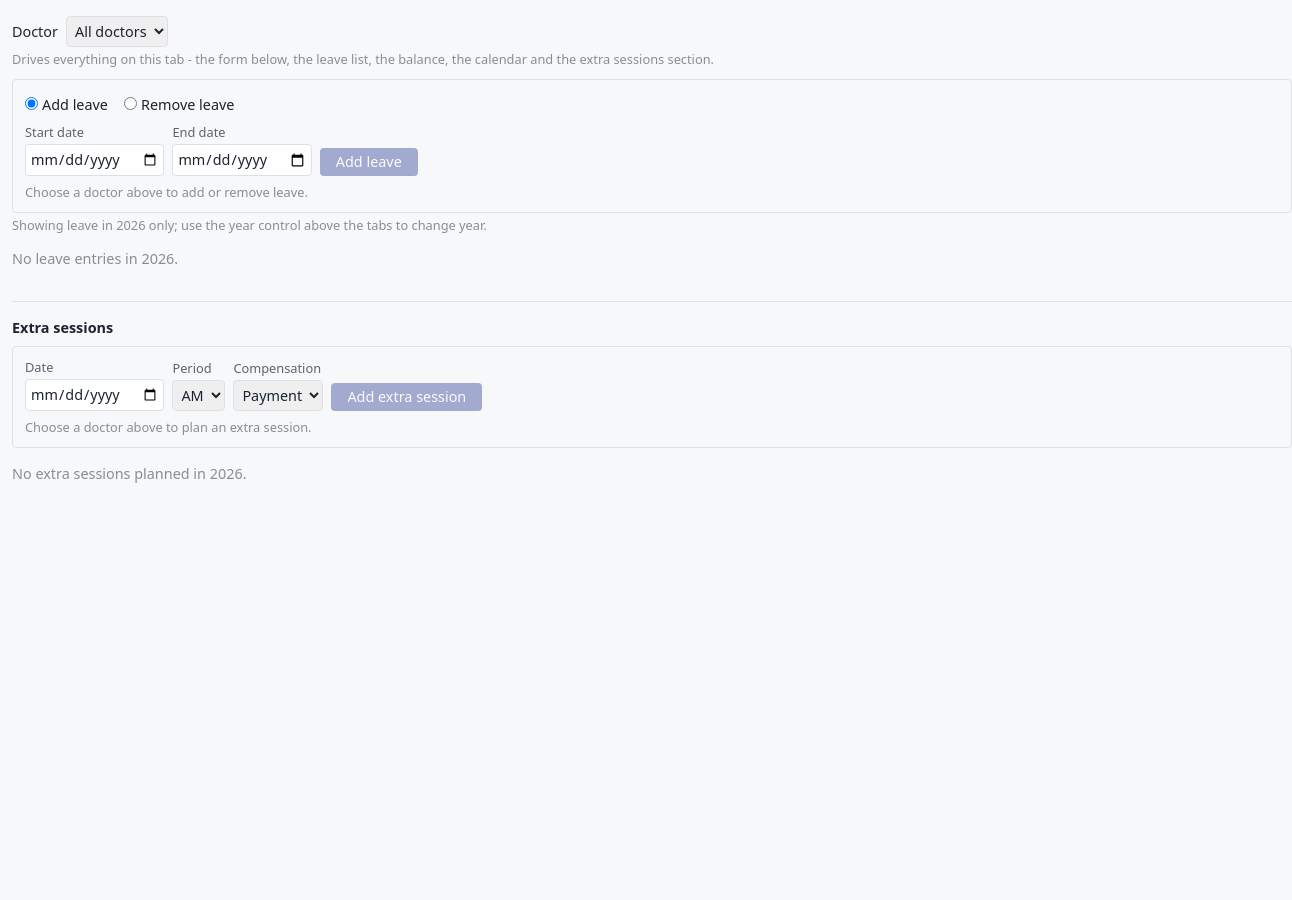
Test: LeavePage › add mode › sums created, duplicate and weekend counts across segments in the summary
The image size is (1292, 900).
Select "AB" in the dropdown labelled "Doctor" at (117, 32), box [66, 16, 168, 47]
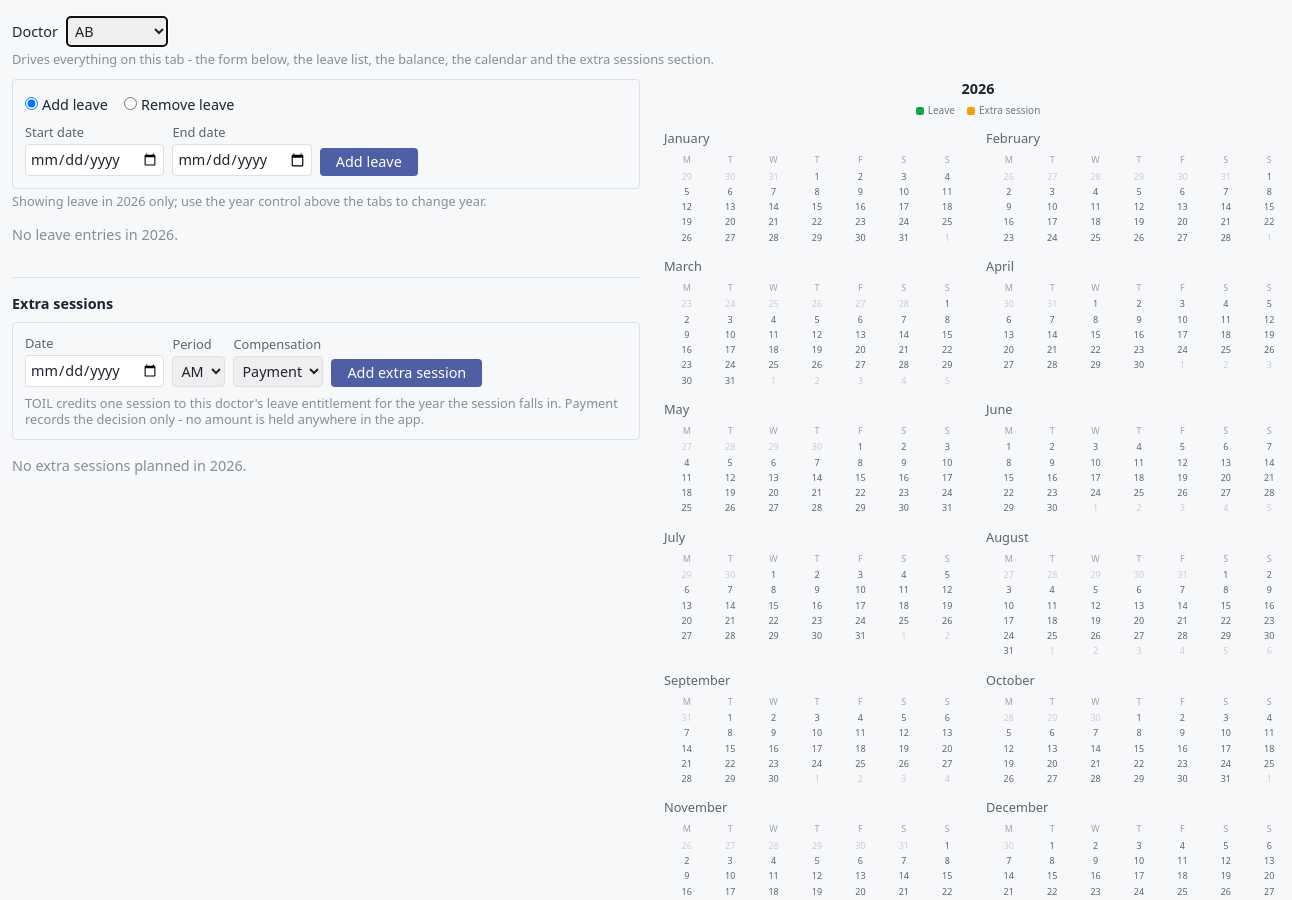
Type "2026-07-13" into the date field labelled "Start date" at (95, 160), box [25, 144, 164, 176]
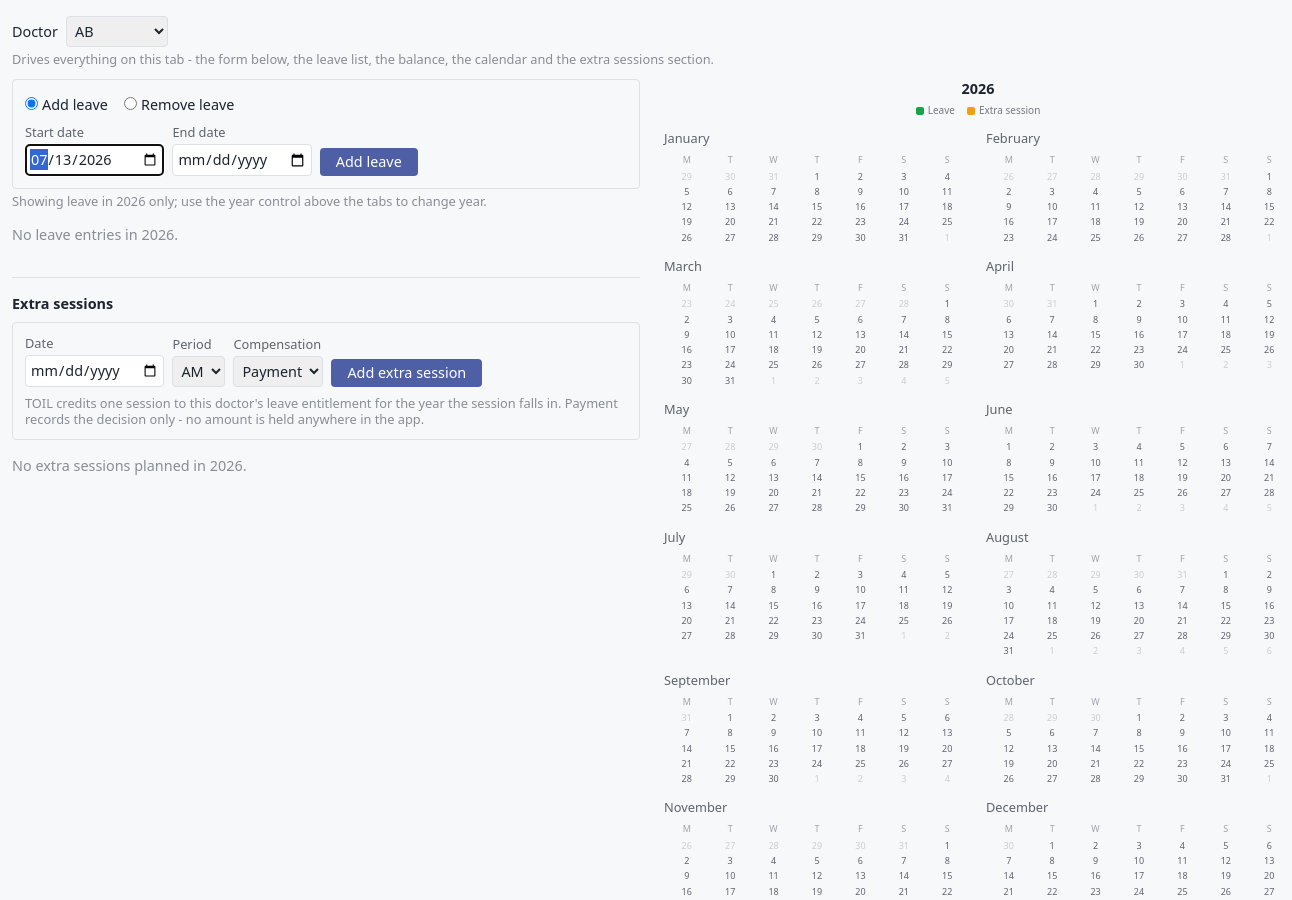
Type "2026-07-17" into the date field labelled "End date" at (242, 160), box [172, 144, 312, 176]
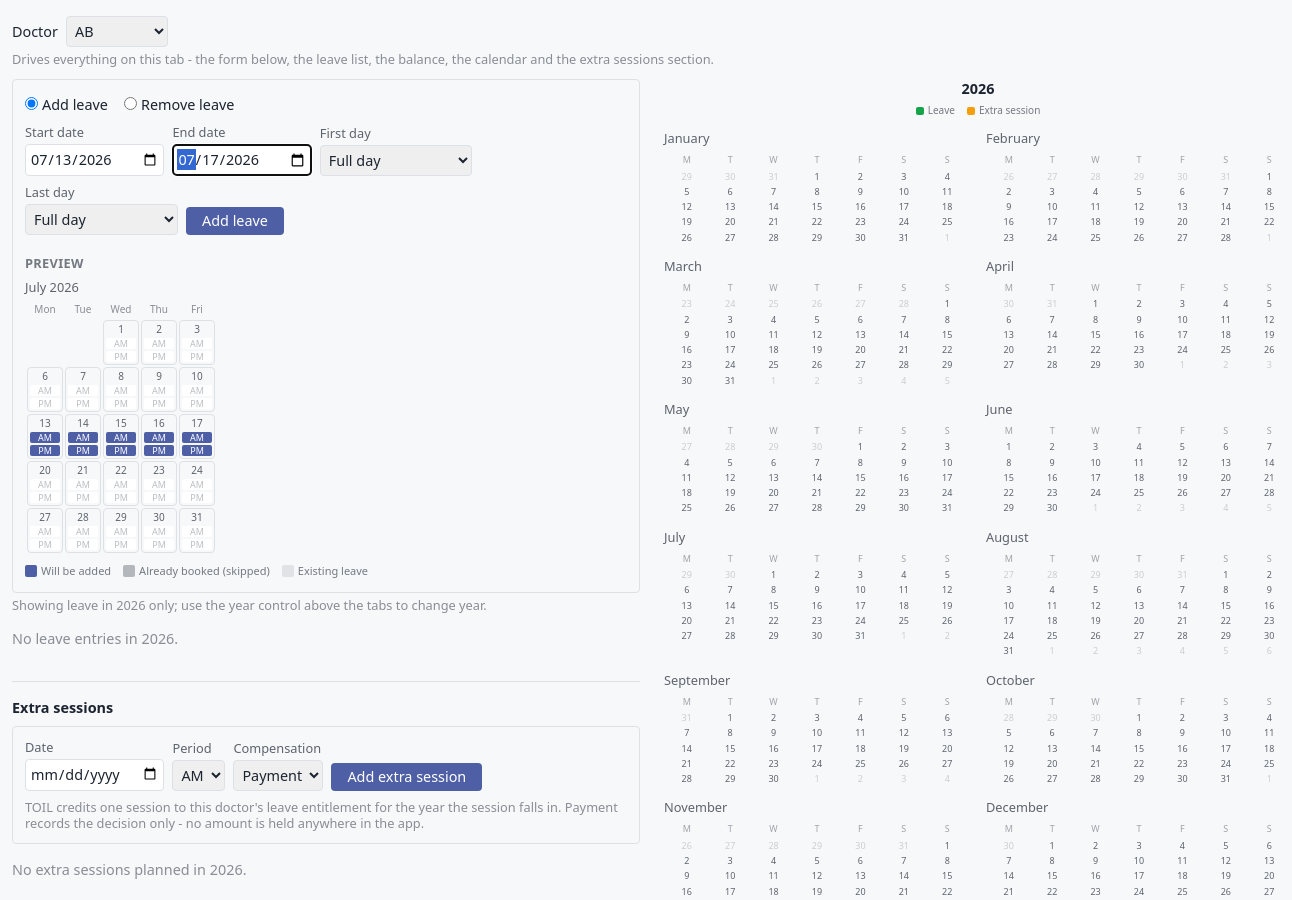
Select "Half day (PM only)" in the dropdown labelled "First day" at (396, 160), box [320, 145, 472, 176]
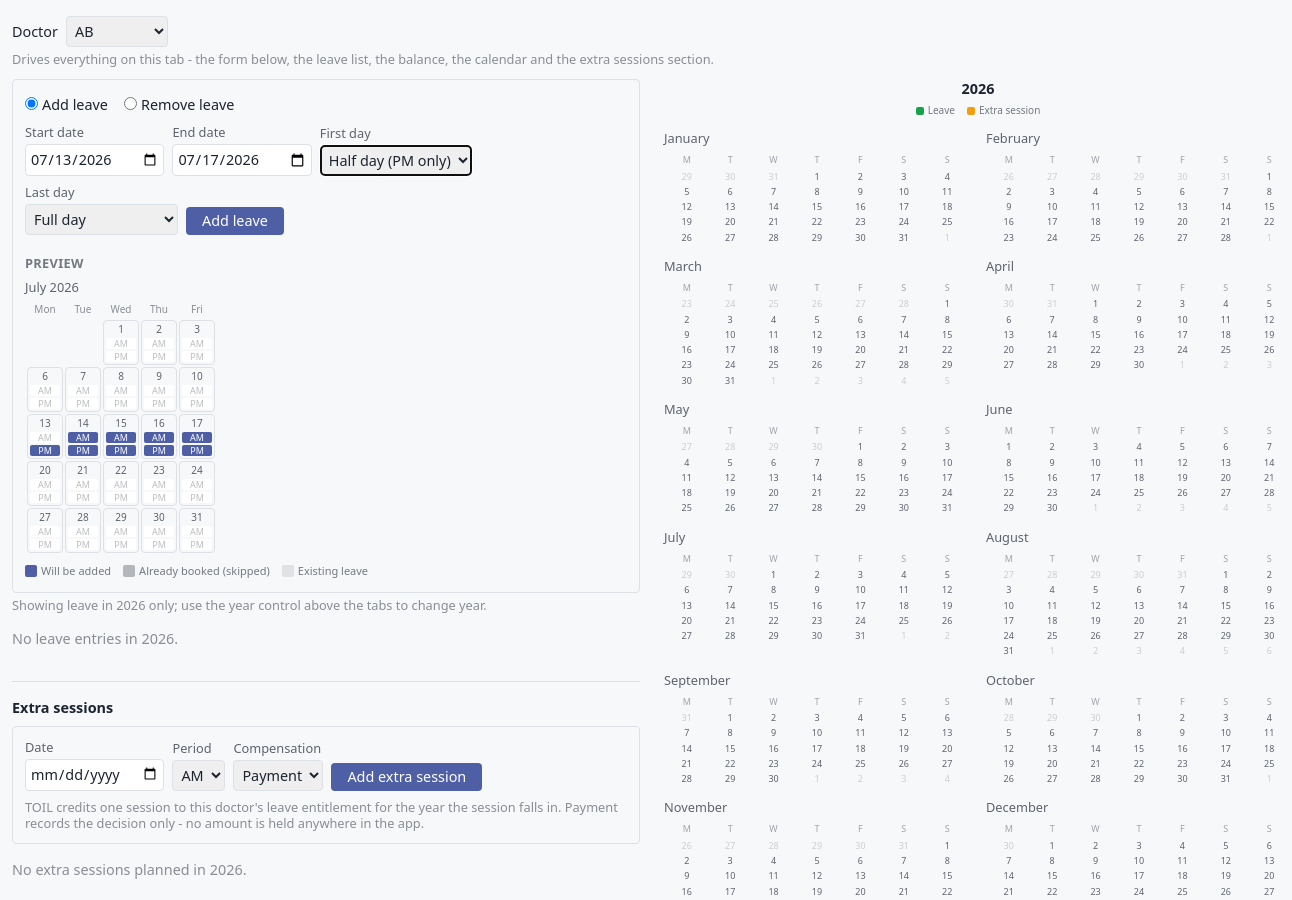
Select "Half day (AM only)" in the dropdown labelled "Last day" at (102, 220), box [25, 204, 178, 235]
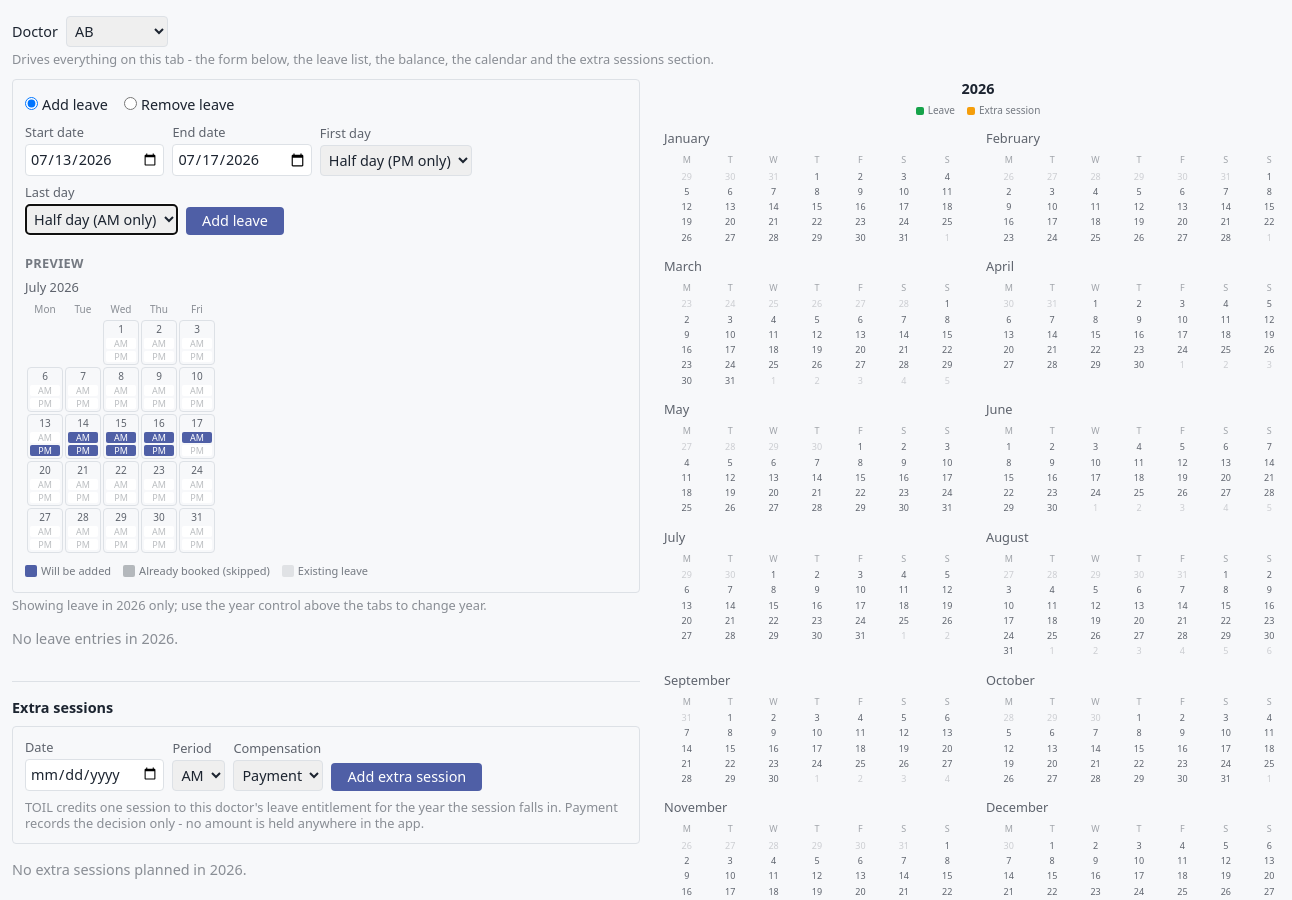
Click the button "Add leave" at (235, 221), box [186, 207, 284, 235]
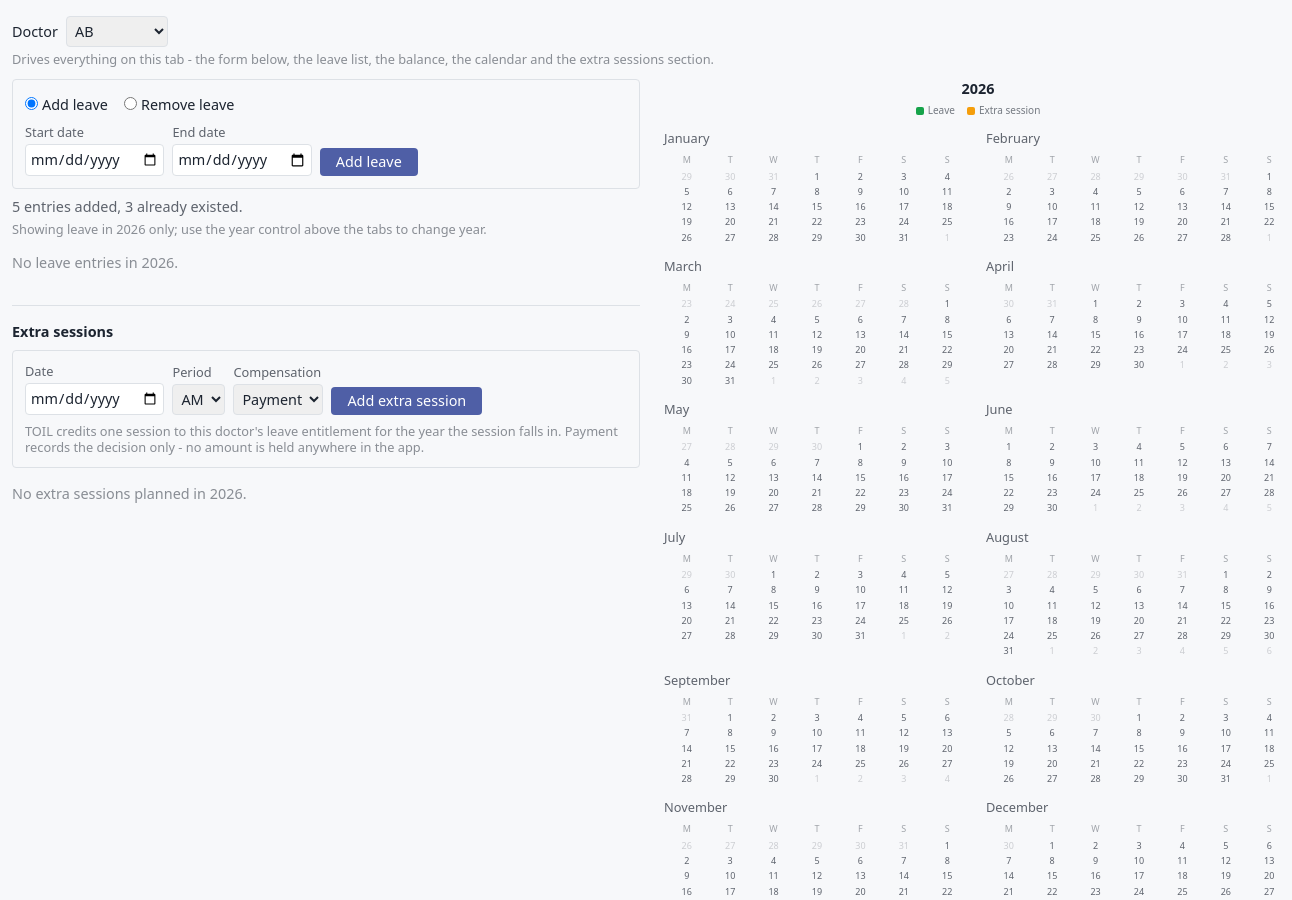
Expected: the text "5 entries added, 3 already existed." is shown, [12, 197, 242, 216]
